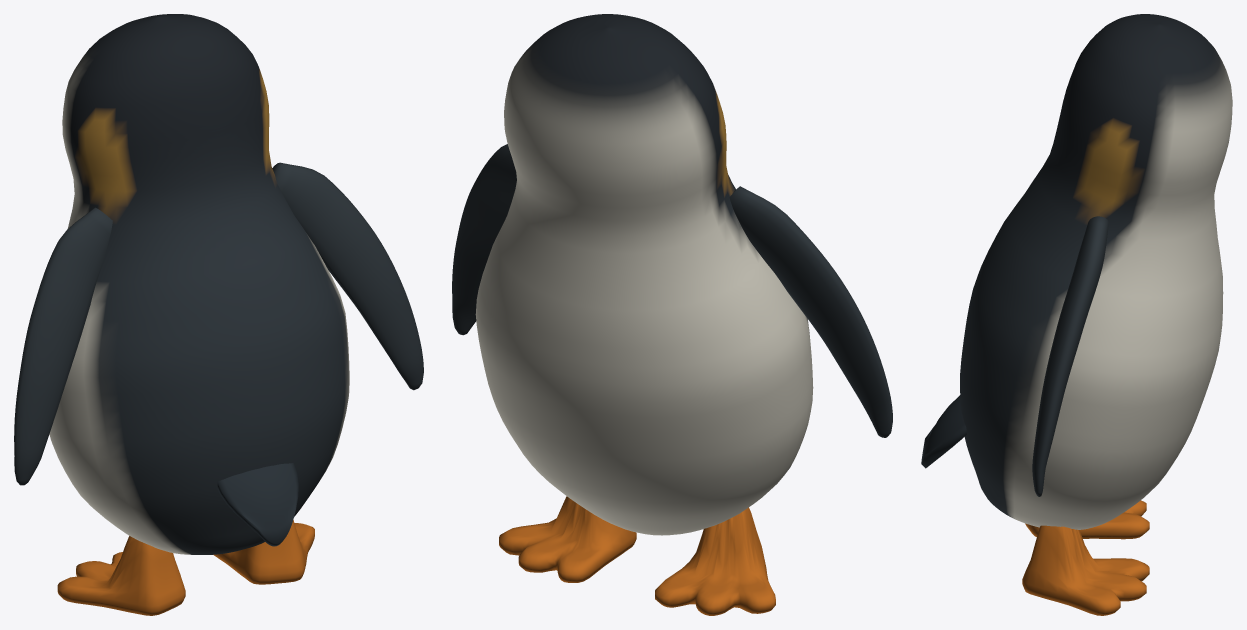
Rendered from candidate.glb.
3 renders of one model, left to right at view 1: azimuth 30°, elevation 25°; view 2: azimuth 150°, elevation 25°; view 3: azimuth 270°, elevation 25°, orthographic. The views are drawn at different scales.
Parts seen in each view (by area): view 1: RearBlockout; view 2: RearBlockout; view 3: RearBlockout.
Part boxes in pixels (box(x1,y1,x2,y2)): RearBlockout: box(14, 14, 423, 615); RearBlockout: box(452, 14, 892, 615); RearBlockout: box(921, 14, 1232, 615).
Size of the model in its own units: 1.36 by 1.69 by 0.8989.
